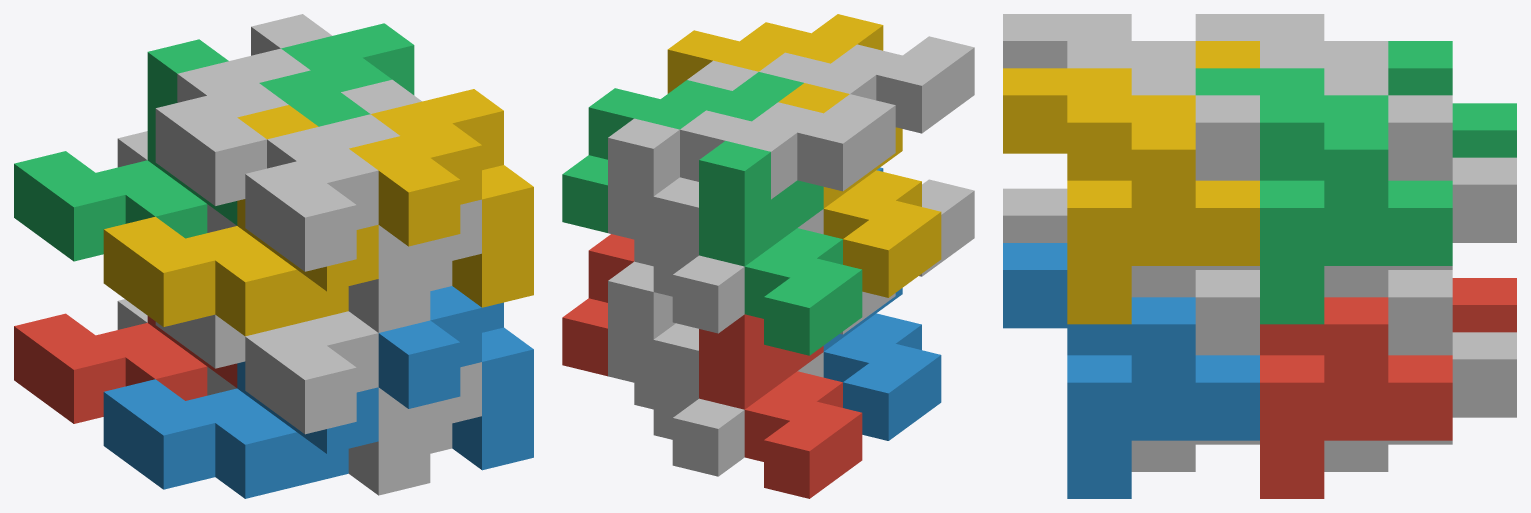
The model's file is tiling.obj.
3 renders of one model, left to right at view 1: azimuth 30°, elevation 25°; view 2: azimuth 150°, elevation 25°; view 3: azimuth 270°, elevation 25°, orthographic. The views are drawn at different scales.
Parts seen in each view (by area): view 1: copy_2_domain_8, copy_1_domain_4, copy_2_domain_4, copy_1_domain_2, copy_2_domain_2, copy_2_domain_6, copy_1_domain_3, copy_1_domain_1, copy_2_domain_3, copy_2_domain_7, copy_1_domain_8, copy_1_domain_6 (+3 smaller); view 2: copy_1_domain_3, copy_1_domain_1, copy_2_domain_3, copy_1_domain_7, copy_1_domain_5, copy_1_domain_4, copy_2_domain_4, copy_1_domain_2, copy_2_domain_7, copy_2_domain_8, copy_2_domain_5, copy_2_domain_1 (+2 smaller); view 3: copy_2_domain_8, copy_2_domain_7, copy_2_domain_6, copy_2_domain_5, copy_1_domain_5, copy_1_domain_7, copy_2_domain_4, copy_2_domain_3, copy_1_domain_6, copy_1_domain_8, copy_1_domain_3, copy_1_domain_1 (+2 smaller).
Boxes of the visible parts, bbox=[...] form: copy_2_domain_8: bbox=[349, 89, 533, 307]; copy_1_domain_4: bbox=[103, 105, 378, 336]; copy_2_domain_4: bbox=[245, 114, 430, 332]; copy_1_domain_2: bbox=[103, 361, 378, 498]; copy_2_domain_2: bbox=[245, 311, 430, 495]; copy_2_domain_6: bbox=[378, 286, 533, 470]; copy_1_domain_3: bbox=[14, 39, 237, 261]; copy_1_domain_1: bbox=[14, 313, 237, 423]; copy_2_domain_3: bbox=[155, 48, 310, 205]; copy_2_domain_7: bbox=[259, 23, 414, 126]; copy_1_domain_8: bbox=[207, 79, 481, 290]; copy_1_domain_6: bbox=[207, 362, 481, 453]; copy_1_domain_3: bbox=[699, 141, 862, 355]; copy_1_domain_1: bbox=[699, 314, 862, 498]; copy_2_domain_3: bbox=[653, 94, 895, 255]; copy_1_domain_7: bbox=[608, 118, 744, 333]; copy_1_domain_5: bbox=[608, 261, 744, 476]; copy_1_domain_4: bbox=[778, 83, 941, 297]; copy_2_domain_4: bbox=[759, 36, 974, 133]; copy_1_domain_2: bbox=[823, 288, 941, 440]; copy_2_domain_7: bbox=[562, 72, 803, 232]; copy_2_domain_8: bbox=[667, 14, 883, 93]; copy_2_domain_5: bbox=[562, 234, 634, 376]; copy_2_domain_1: bbox=[653, 291, 895, 398]; copy_2_domain_8: bbox=[1003, 68, 1259, 324]; copy_2_domain_7: bbox=[1195, 68, 1452, 324]; copy_2_domain_6: bbox=[1003, 243, 1259, 498]; copy_2_domain_5: bbox=[1260, 297, 1452, 498]; copy_1_domain_5: bbox=[1324, 270, 1516, 471]; copy_1_domain_7: bbox=[1324, 95, 1516, 297]; copy_2_domain_4: bbox=[1003, 14, 1195, 95]; copy_2_domain_3: bbox=[1195, 14, 1388, 95]; copy_1_domain_6: bbox=[1131, 270, 1259, 471]; copy_1_domain_8: bbox=[1131, 95, 1259, 297]; copy_1_domain_3: bbox=[1388, 41, 1516, 157]; copy_1_domain_1: bbox=[1452, 278, 1516, 332].
Size of the model in its own units: 6 by 6 by 8.
